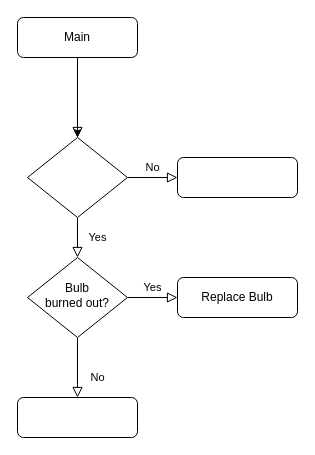
Some shapes in this 315 by 455 pixel diagram are drawn without their labels. Each missing label, with the centre of its shape:
"Plug in lamp" belongs at (x=237, y=177).
"Repair Lamp" belongs at (x=77, y=417).
